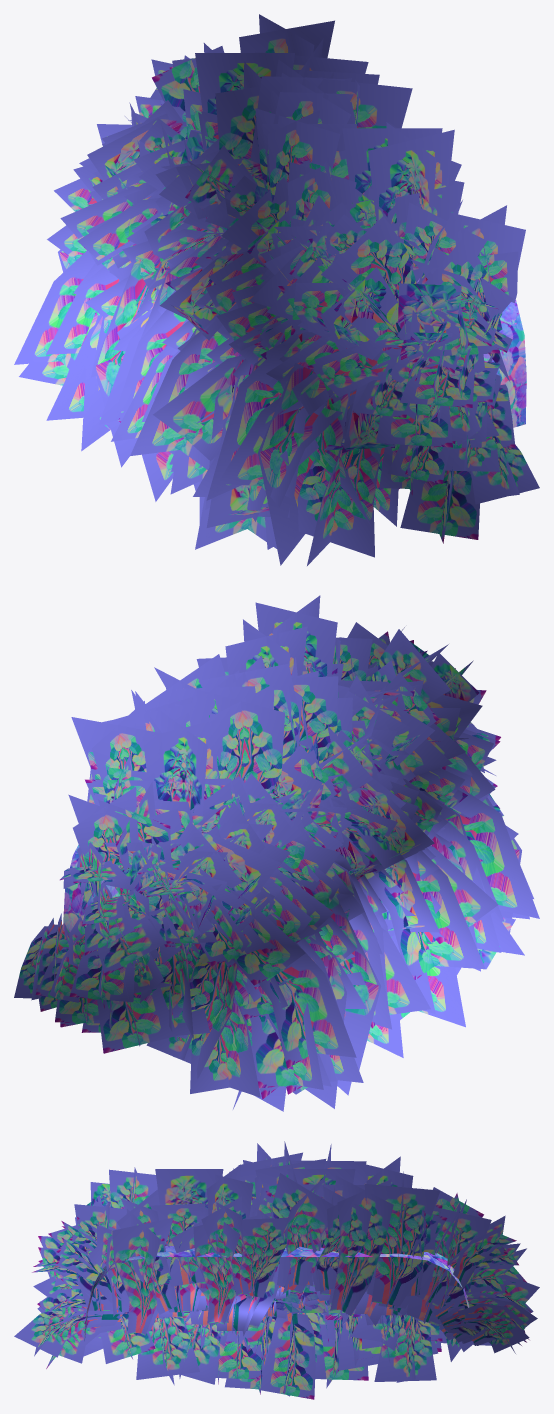
File: SM_flowers_01.fbx
3 renders of one model, top to bottom at view 1: azimuth 30°, elevation 25°; view 2: azimuth 150°, elevation 25°; view 3: azimuth 270°, elevation 25°, orthographic. The views are drawn at different scales.
Parts seen in each view (by area): view 1: SM_flowers_01_LOD0; view 2: SM_flowers_01_LOD0; view 3: SM_flowers_01_LOD0.
Part boxes in pixels (x1,y1,x2,y2): SM_flowers_01_LOD0: [14, 14, 539, 565]; SM_flowers_01_LOD0: [14, 595, 539, 1111]; SM_flowers_01_LOD0: [14, 1141, 539, 1399].
Size of the model in its own units: 143 by 294 by 172.
1 material, 1 textured.
